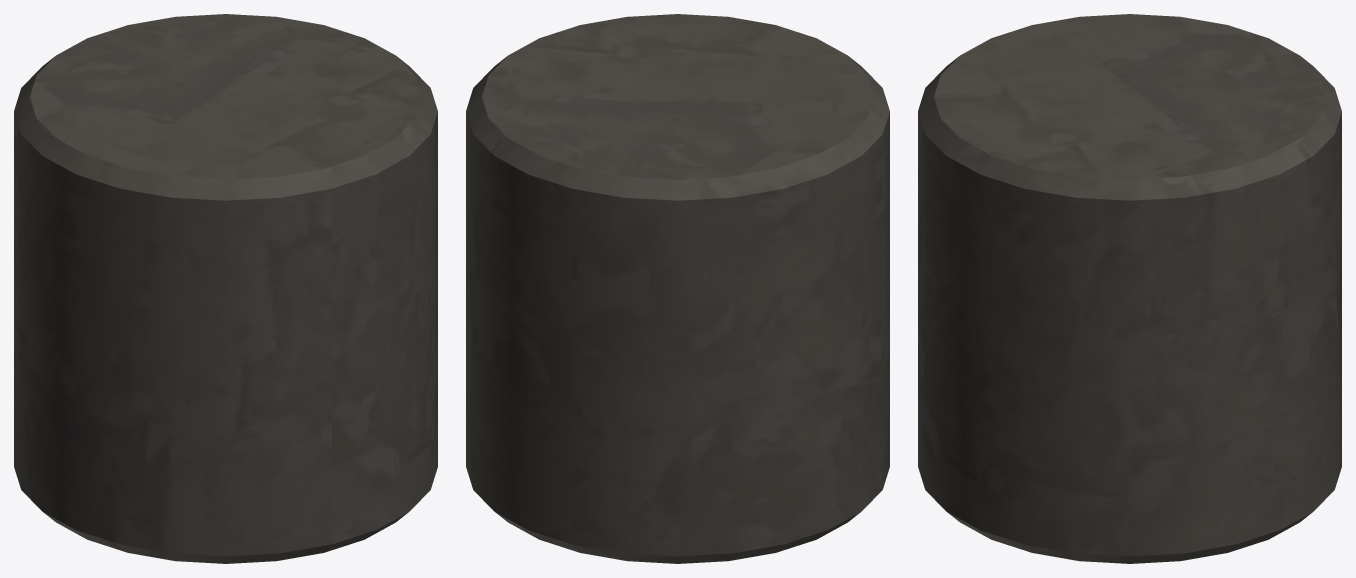
File: Part - Simlpe form 09-BpQSkVT1.glb
The picture shows the model from 3 angles, left to right: view 1: azimuth 30°, elevation 25°; view 2: azimuth 150°, elevation 25°; view 3: azimuth 270°, elevation 25°; orthographic projection.
Visible parts, largest first — view 1: Simlpe_form_09; view 2: Simlpe_form_09; view 3: Simlpe_form_09.
Boxes of the visible parts, box(x1,y1,x2,y2) form: Simlpe_form_09: box(14, 14, 437, 563); Simlpe_form_09: box(466, 14, 889, 563); Simlpe_form_09: box(918, 14, 1341, 563).
Bounding box in the file's own units: 1 × 1 × 1.
Materials: 1 (1 with a texture image).
